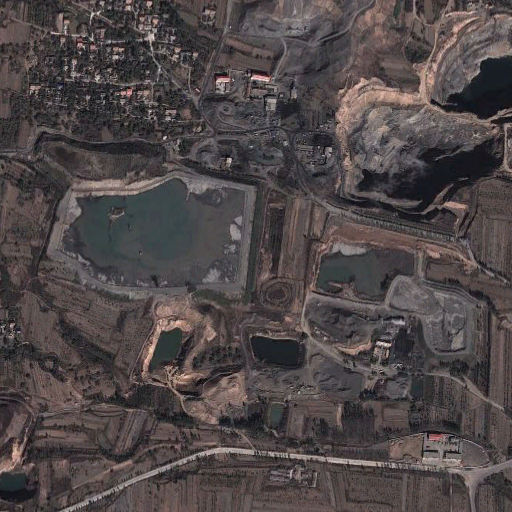tp: (47, 166, 262, 313), (305, 213, 483, 358)
